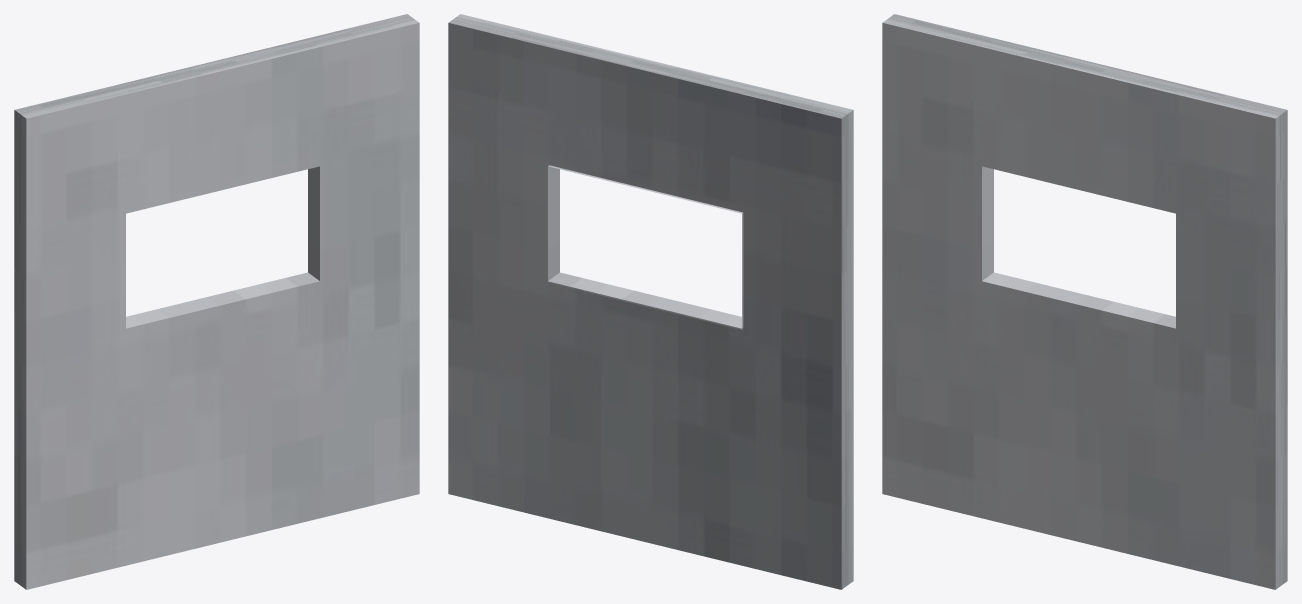
File: backWall.glb
The picture shows the model from 3 angles, left to right: view 1: azimuth 30°, elevation 25°; view 2: azimuth 150°, elevation 25°; view 3: azimuth 330°, elevation 25°; orthographic projection.
Parts seen in each view (by area): view 1: B-Wall; view 2: B-Wall; view 3: B-Wall.
Boxes of the visible parts, left/top/right/bottom form: B-Wall: left=14, top=14, right=419, bottom=589; B-Wall: left=448, top=14, right=853, bottom=589; B-Wall: left=882, top=14, right=1287, bottom=589.
Bounding box in the file's own units: 9.77 × 11.2 × 0.5203.
1 material, 1 textured.
